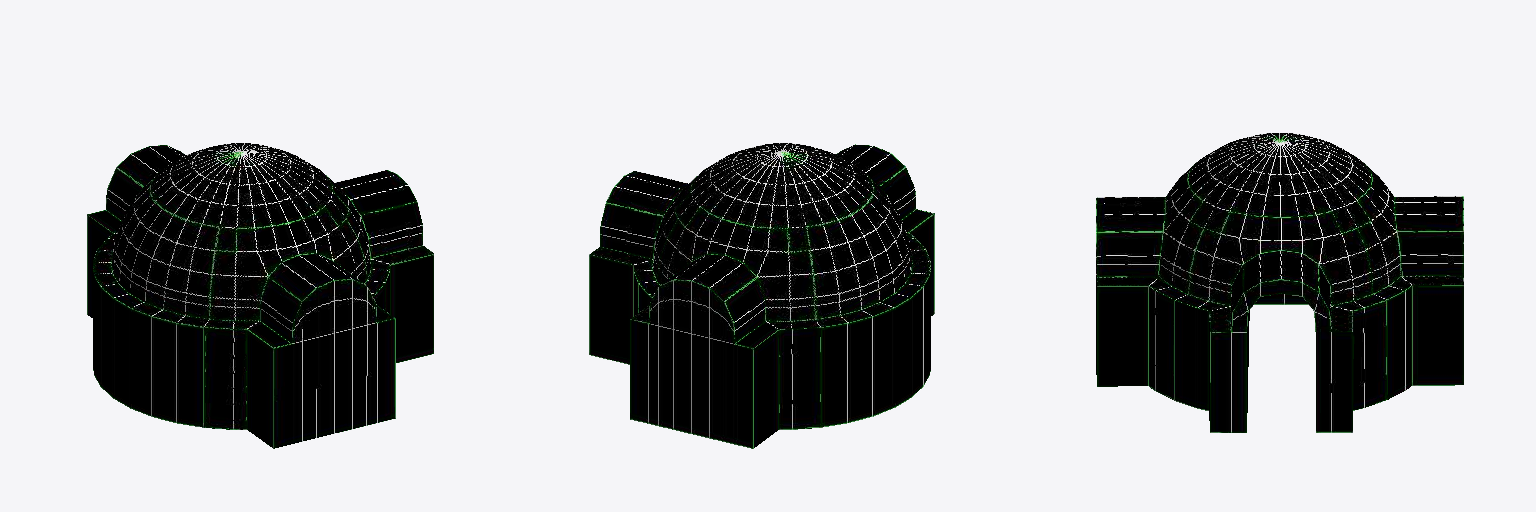
3 renders of one model, left to right at view 1: azimuth 30°, elevation 25°; view 2: azimuth 150°, elevation 25°; view 3: azimuth 270°, elevation 25°, orthographic.
Parts seen in each view (by area): view 1: Sphere; view 2: Sphere; view 3: Sphere.
Boxes of the visible parts, x1,y1,x2,y2 form: Sphere: [87, 143, 433, 448]; Sphere: [589, 143, 934, 448]; Sphere: [1096, 133, 1463, 432].
Size of the model in its own units: 6.48 by 4.64 by 7.23.
Materials: 1 (1 with a texture image).